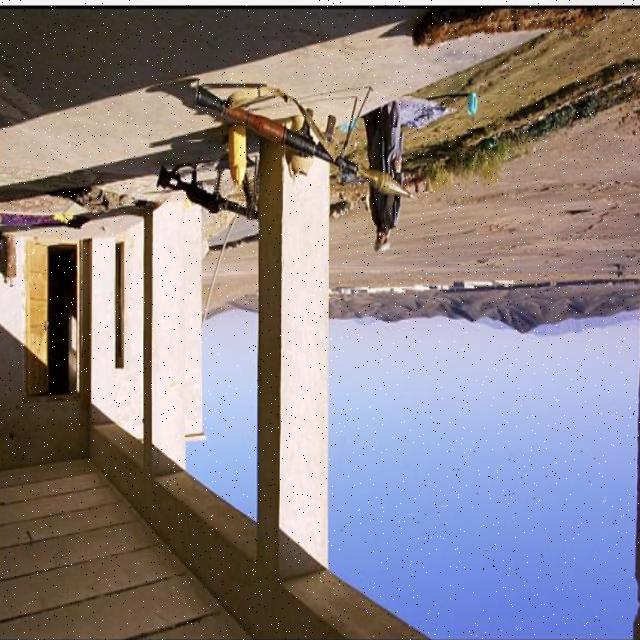bazooka: (165, 73, 432, 205)
